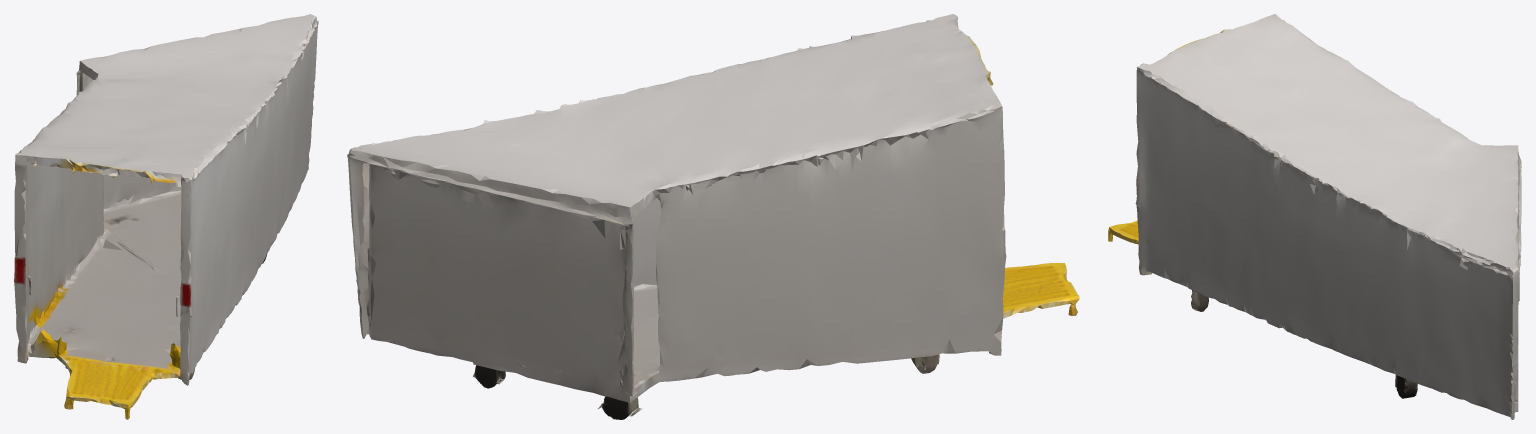
The model's file is golem_tail.glb.
3 views of the same model, side by side, from view 1: azimuth 30°, elevation 25°; view 2: azimuth 150°, elevation 25°; view 3: azimuth 270°, elevation 25° (orthographic). The views are drawn at different scales.
Parts seen in each view (by area): view 1: golem_tail; view 2: golem_tail; view 3: golem_tail.
Part boxes in pixels (x1,y1,x2,y2): golem_tail: [14, 14, 318, 419]; golem_tail: [347, 14, 1079, 419]; golem_tail: [1108, 14, 1521, 419].
Bounding box in the file's own units: 1.89 × 0.9824 × 1.57.
1 material, 1 textured.
